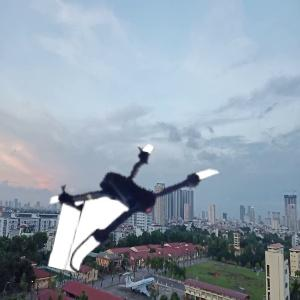drone: (52, 117, 220, 285)
